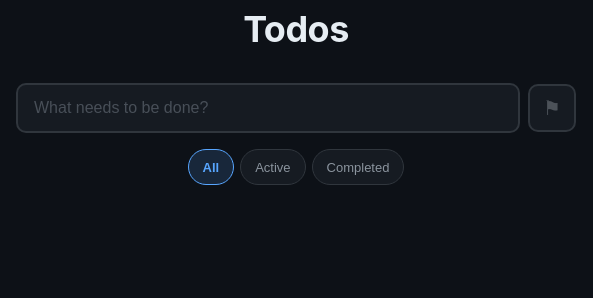
Scenario: App › adds a todo via input
Type "New task" into the field with class "todo-input".
click(268, 108); type("New task")  # box 16,83 -> 520,133
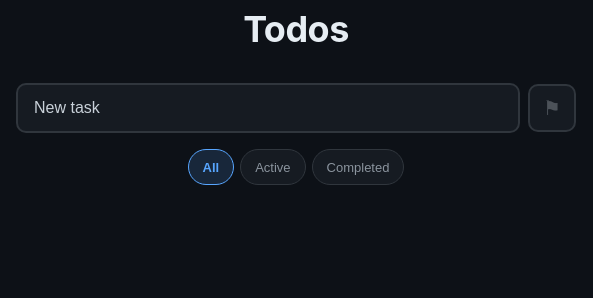
Press Enter in the field with class "todo-input", box 16,83 -> 520,133
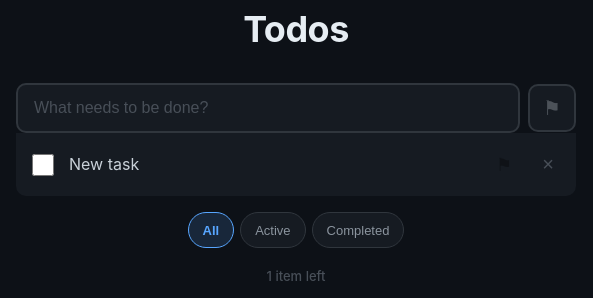
Check: the text "New task" is shown, box 69,154 -> 139,174
